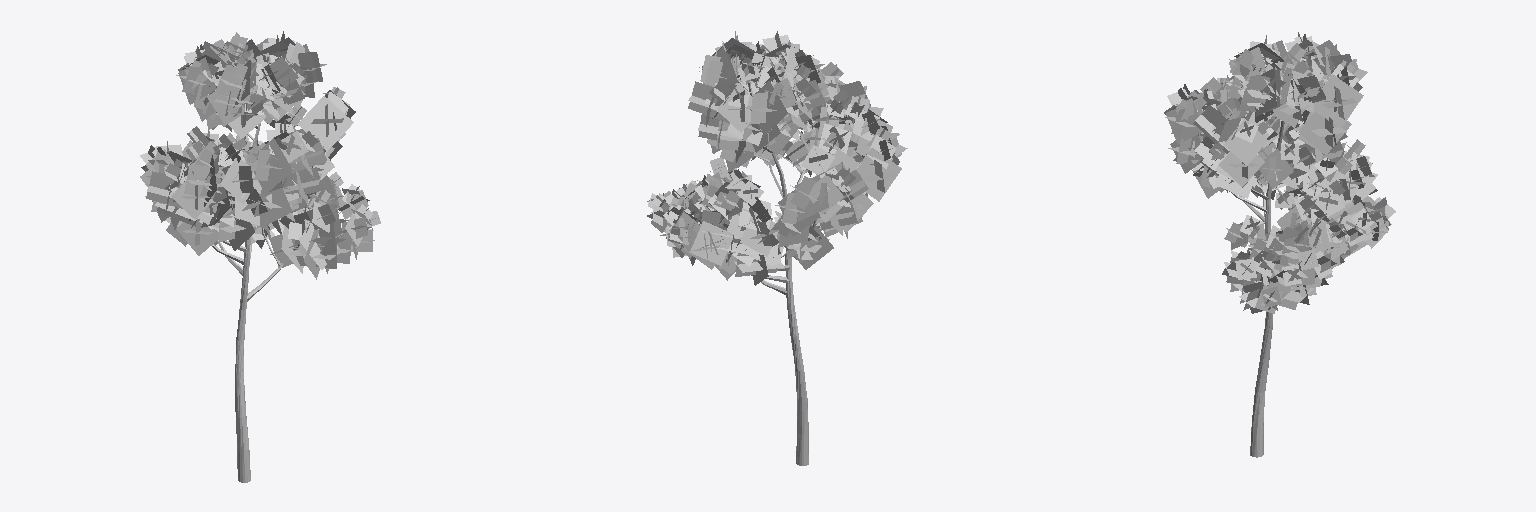
The model's file is Birch_3.obj.
3 renders of one model, left to right at view 1: azimuth 30°, elevation 25°; view 2: azimuth 150°, elevation 25°; view 3: azimuth 270°, elevation 25°, orthographic.
Parts seen in each view (by area): view 1: Birch_3; view 2: Birch_3; view 3: Birch_3.
Boxes of the visible parts, x1=… form: Birch_3: x1=140, y1=31, x2=380, y2=482; Birch_3: x1=647, y1=31, x2=907, y2=465; Birch_3: x1=1164, y1=32, x2=1395, y2=457.
Bounding box in the file's own units: 7.97 × 13.36 × 6.72.